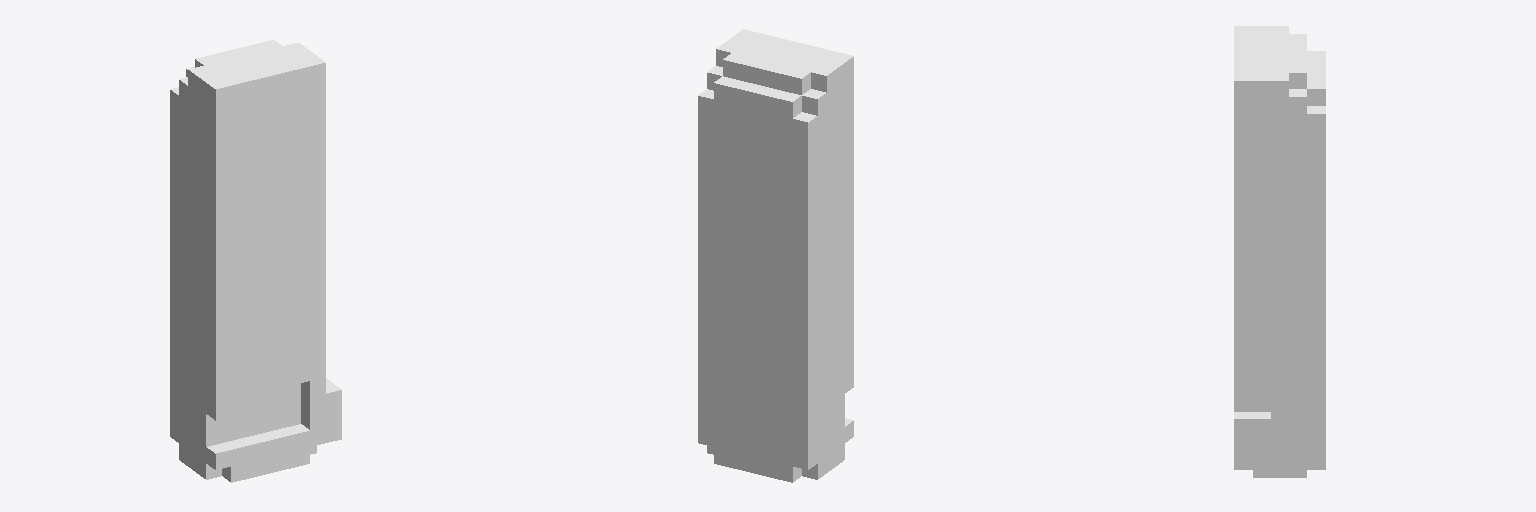
File: merchant-2.obj
3 renders of one model, left to right at view 1: azimuth 30°, elevation 25°; view 2: azimuth 150°, elevation 25°; view 3: azimuth 270°, elevation 25°, orthographic.
Visible parts, largest first — view 1: object 1; view 2: object 1; view 3: object 1.
Boxes of the visible parts, x1,y1,x2,y2 form: object 1: [170, 40, 341, 482]; object 1: [698, 29, 853, 482]; object 1: [1234, 26, 1325, 477].
Bounding box in the file's own units: 0.8 × 2.4 × 0.5.